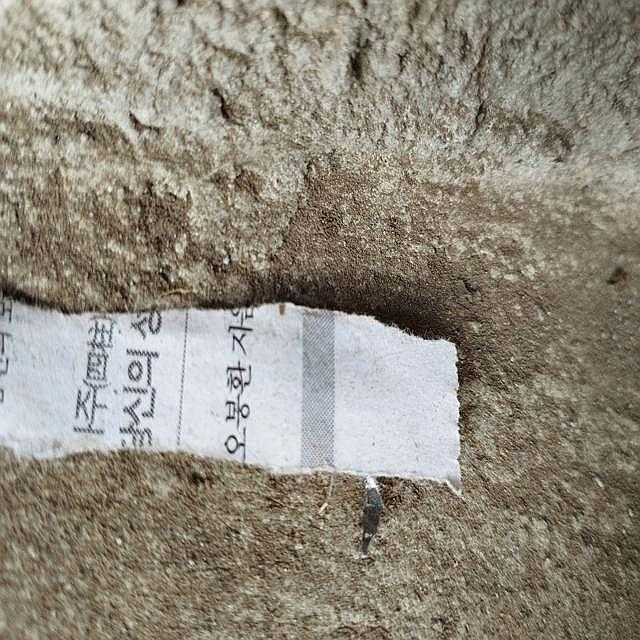Biodegradable: (1, 302, 469, 489)
